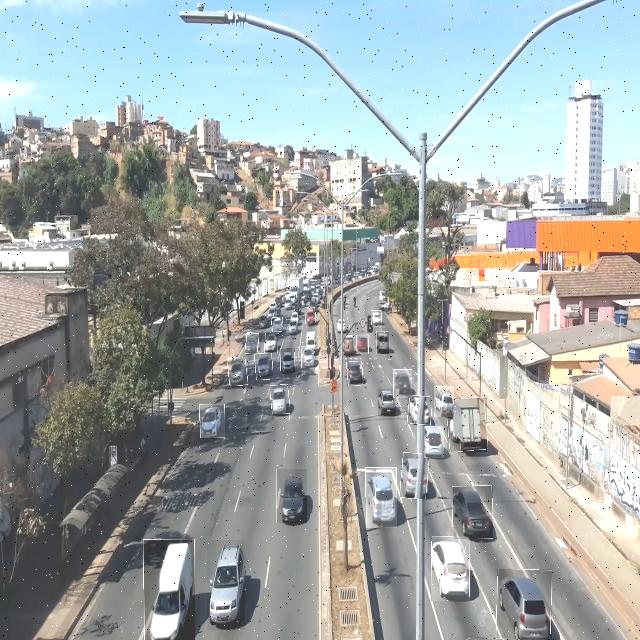Car: (497, 569, 552, 640), (207, 540, 245, 630), (432, 536, 470, 601), (453, 486, 493, 539), (366, 467, 397, 528), (276, 469, 307, 523), (401, 453, 429, 498), (200, 404, 225, 438), (422, 426, 444, 458), (408, 396, 431, 424), (434, 386, 454, 417), (228, 357, 248, 386), (393, 369, 412, 398), (271, 385, 290, 414), (378, 389, 396, 417), (254, 354, 273, 380), (281, 348, 295, 374), (347, 362, 362, 386), (376, 331, 389, 354), (245, 333, 259, 354), (301, 346, 314, 368), (265, 333, 278, 353), (357, 334, 369, 354), (306, 307, 316, 328), (286, 319, 298, 336), (372, 310, 382, 327), (272, 318, 283, 332)
Truck: (144, 539, 195, 640), (447, 398, 487, 452)
